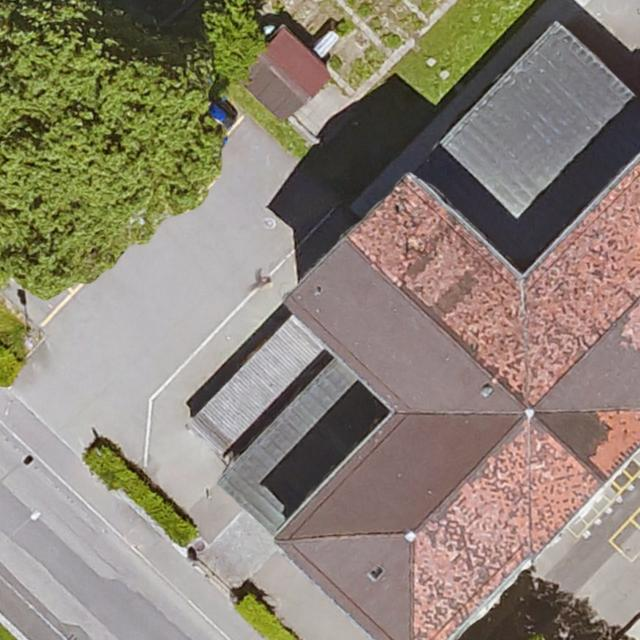tree: (0, 0, 212, 285), (200, 0, 263, 80)
